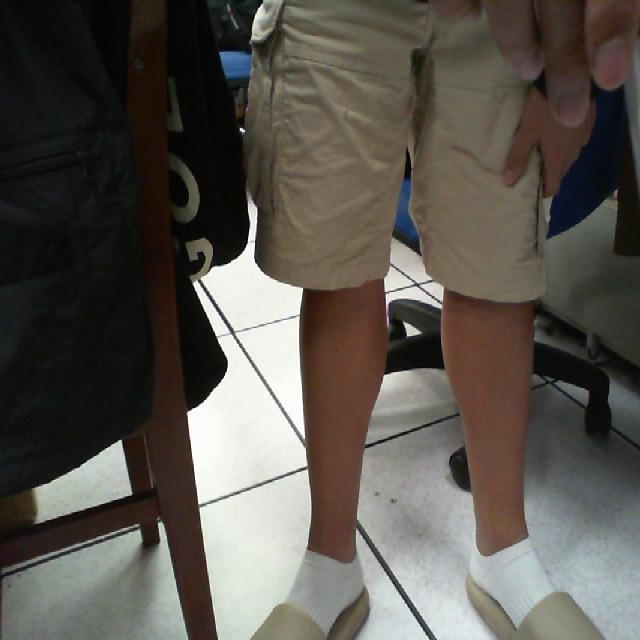Pen: (580, 6, 640, 287)
